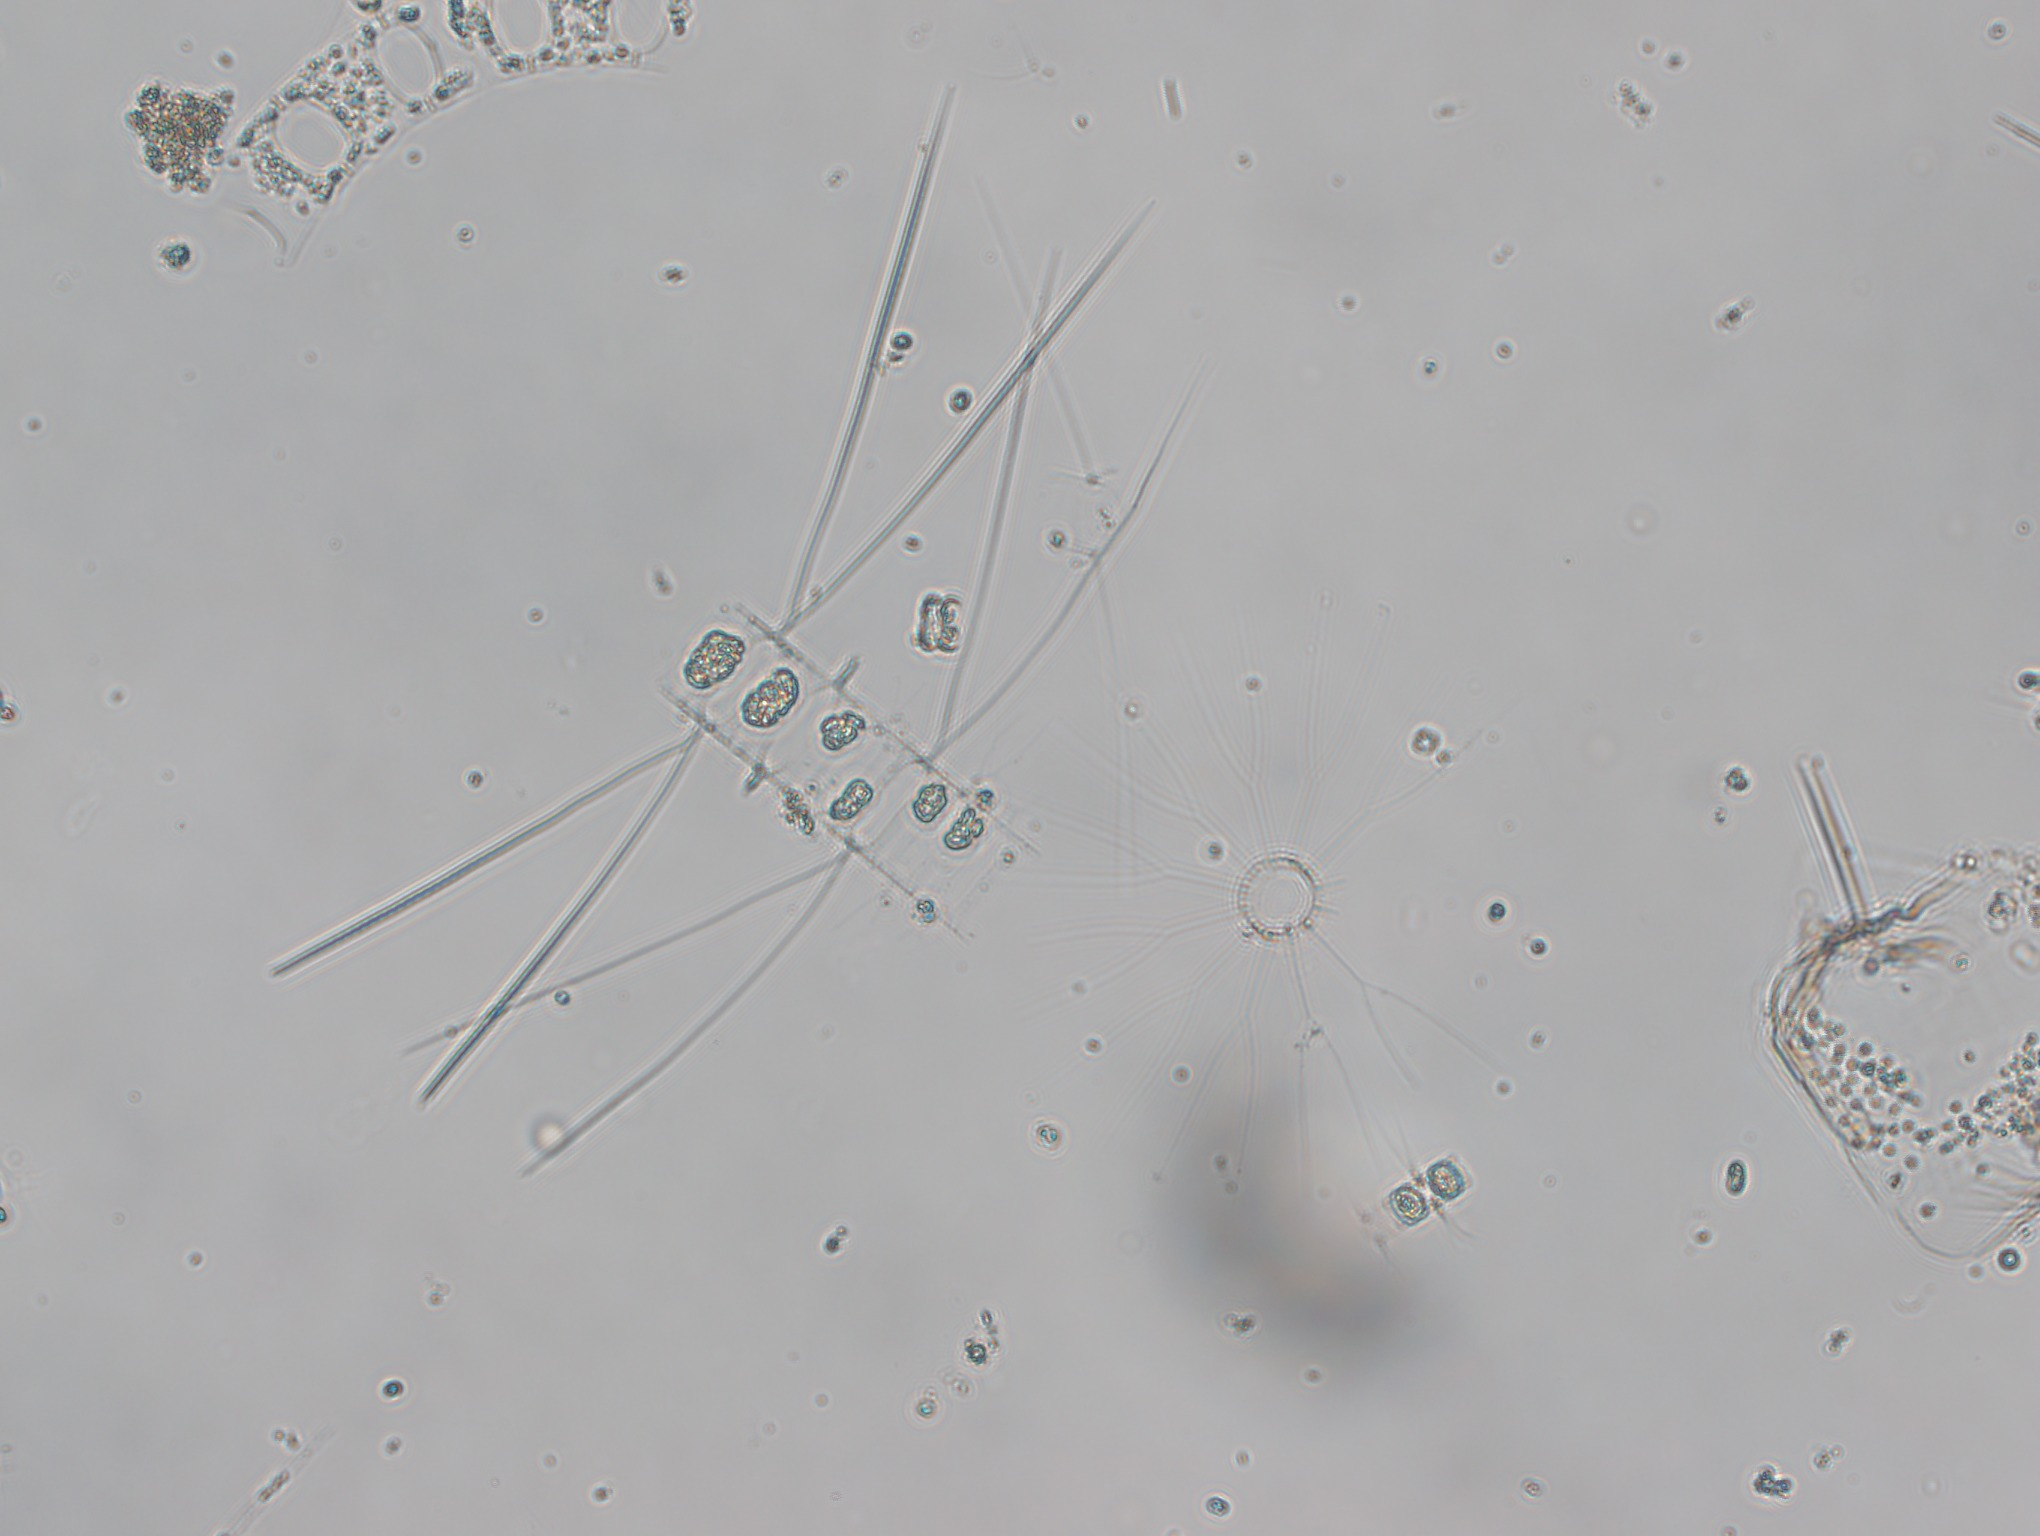bacteriastrum: (1030, 658, 1527, 1141)
chaetoceros: (269, 89, 1205, 1181), (1335, 1141, 1498, 1254)
ditylum: (1759, 749, 2040, 1265)
eucampia: (208, 2, 697, 269)
